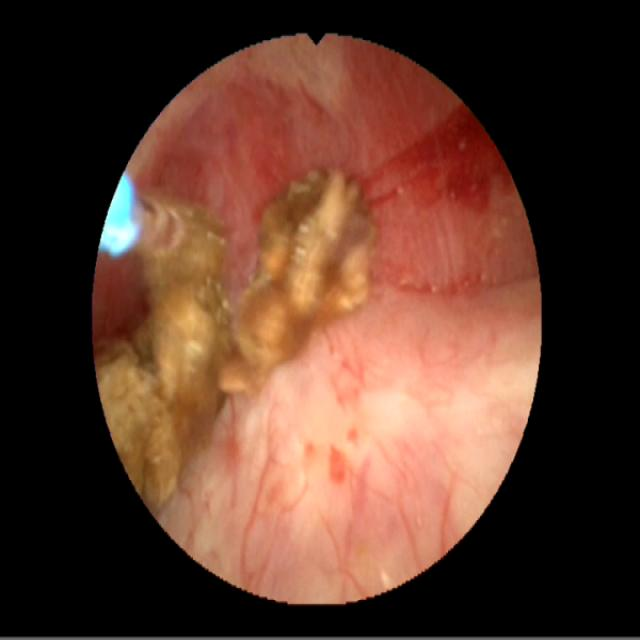fiber: (104, 179, 134, 252)
stone: (99, 172, 375, 505)
tissue: (136, 41, 537, 595)
